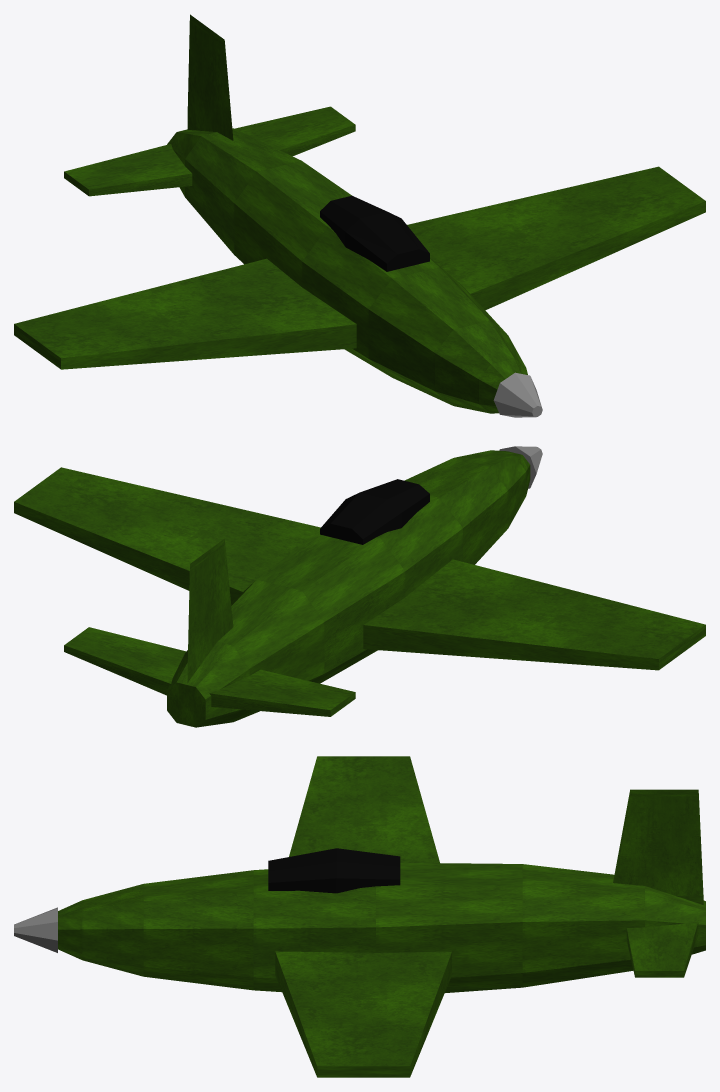
Rendered from plane_falcon.obj.
3 views of the same model, one above another, from view 1: azimuth 30°, elevation 25°; view 2: azimuth 150°, elevation 25°; view 3: azimuth 270°, elevation 25° (orthographic).
Parts seen in each view (by area): view 1: plane_falcon; view 2: plane_falcon; view 3: plane_falcon.
Boxes of the visible parts, x1=… form: plane_falcon: x1=14, y1=14, x2=705, y2=417; plane_falcon: x1=14, y1=446, x2=705, y2=727; plane_falcon: x1=14, y1=756, x2=705, y2=1077.
Bounding box in the file's own units: 30 × 8.85 × 28.3.
